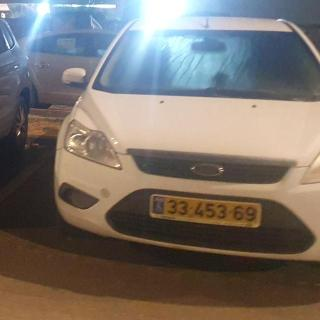LicensePlate: (163, 197, 262, 224)
